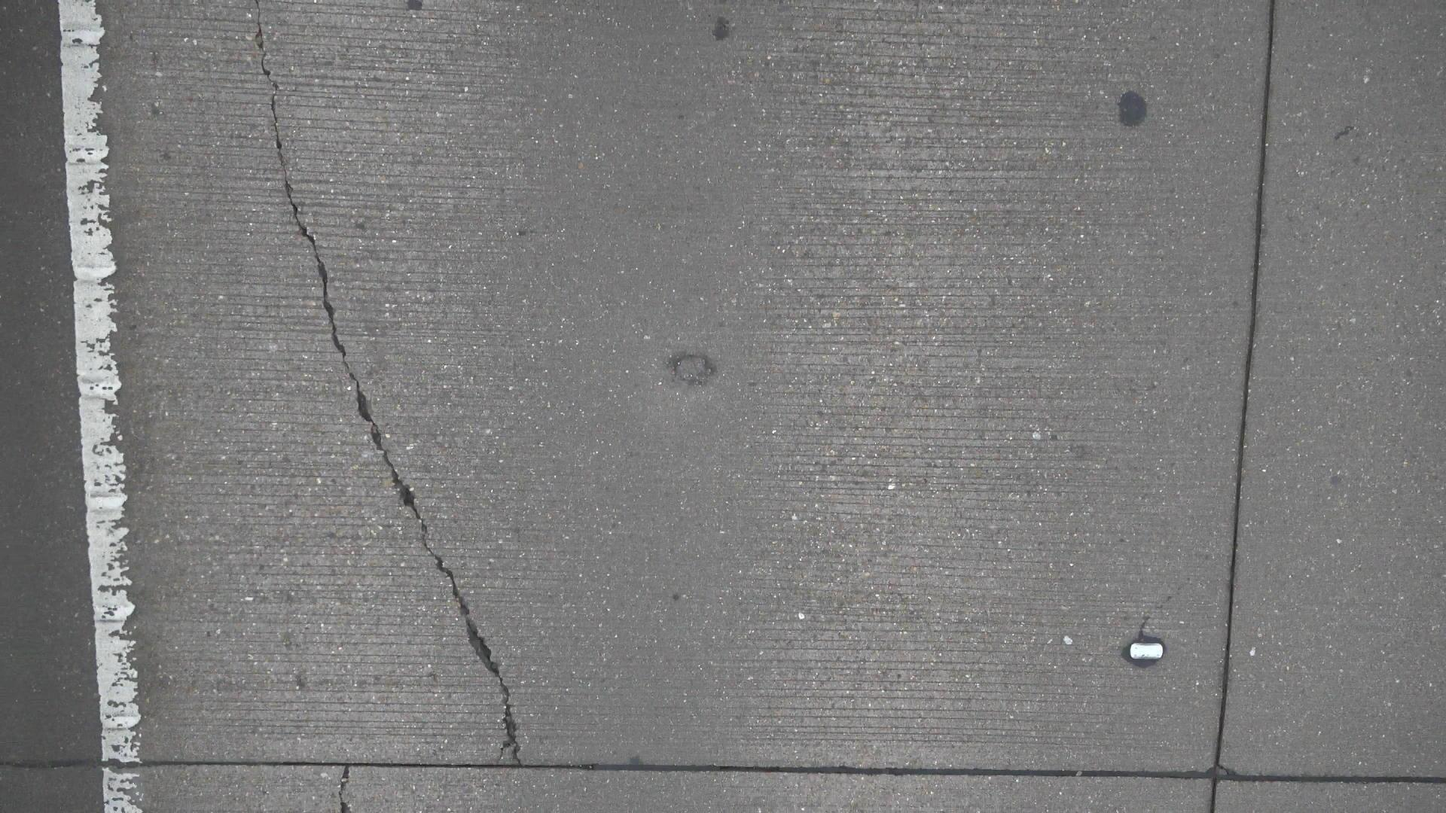GRIETA: (258, 23, 519, 764), (1208, 0, 1276, 812), (119, 759, 1210, 781), (1221, 773, 1445, 784), (0, 761, 77, 769), (339, 766, 352, 812)
